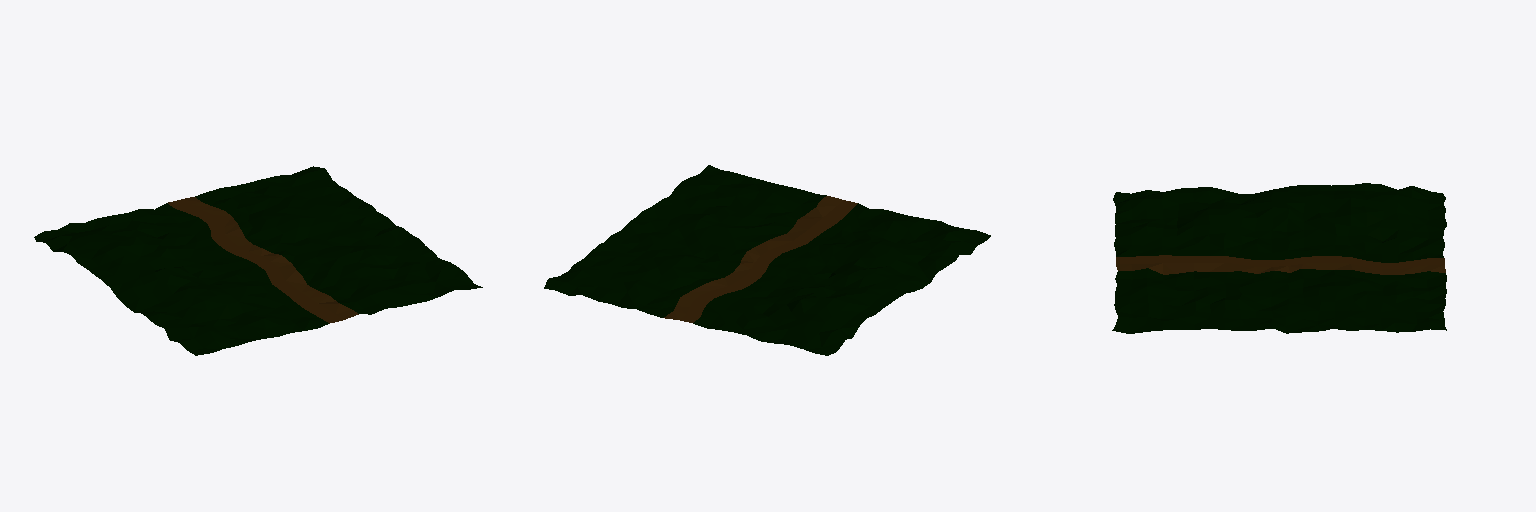
The model's file is ForestPath.obj.
3 views of the same model, side by side, from view 1: azimuth 30°, elevation 25°; view 2: azimuth 150°, elevation 25°; view 3: azimuth 270°, elevation 25° (orthographic).
Parts seen in each view (by area): view 1: Plane; view 2: Plane; view 3: Plane.
Boxes of the visible parts, box(x1,y1,x2,y2) form: Plane: box(34, 166, 482, 355); Plane: box(544, 165, 990, 355); Plane: box(1112, 183, 1446, 333).
Bounding box in the file's own units: 10.16 × 0.5755 × 10.2.